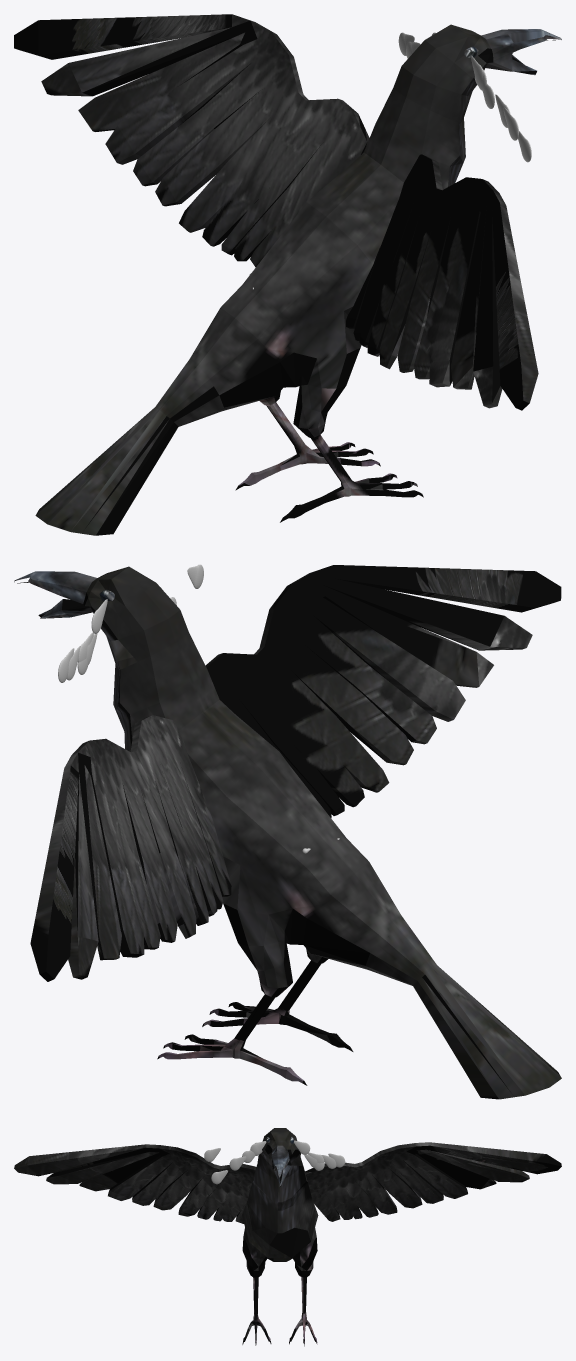
File: aasooo_000004.obj
The picture shows the model from 3 angles, top to bottom: view 1: azimuth 30°, elevation 25°; view 2: azimuth 150°, elevation 25°; view 3: azimuth 270°, elevation 25°; orthographic projection. The views are drawn at different scales.
Parts seen in each view (by area): view 1: Cylinder.001, Cylinder.002, Cylinder.003; view 2: Cylinder.001, Cylinder.003, Cylinder.002; view 3: Cylinder.002, Cylinder.003, Cylinder.001.
Part boxes in pixels (left/top/right/bottom): Cylinder.001: left=35, top=24, right=561, bottom=535; Cylinder.002: left=14, top=14, right=369, bottom=267; Cylinder.003: left=346, top=154, right=538, bottom=410; Cylinder.001: left=14, top=566, right=561, bottom=1099; Cylinder.003: left=205, top=565, right=561, bottom=817; Cylinder.002: left=30, top=715, right=231, bottom=981; Cylinder.002: left=305, top=1142, right=561, bottom=1221; Cylinder.003: left=14, top=1144, right=256, bottom=1223; Cylinder.001: left=242, top=1128, right=318, bottom=1346.
Size of the model in its own units: 2.61 by 2.05 by 4.38.
